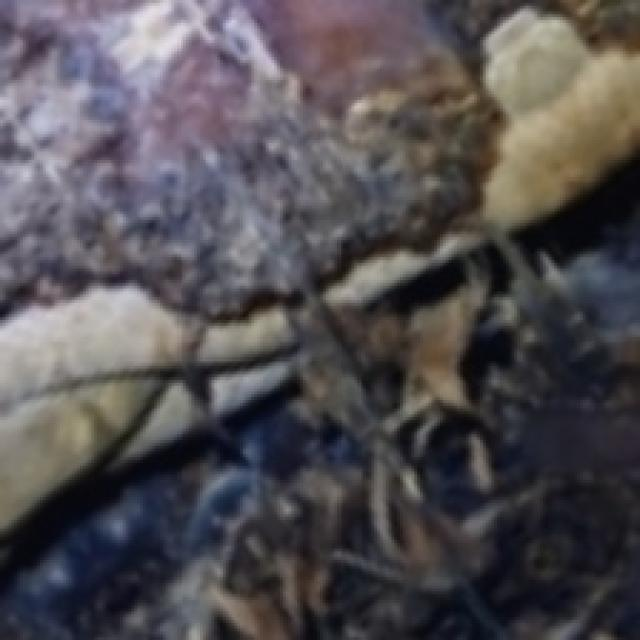dog-toothed cat snake: (1, 285, 292, 534), (480, 10, 640, 231), (324, 236, 480, 308)
